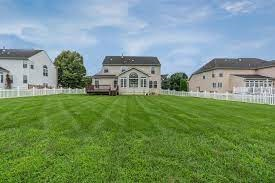grass: (0, 95, 272, 180)
